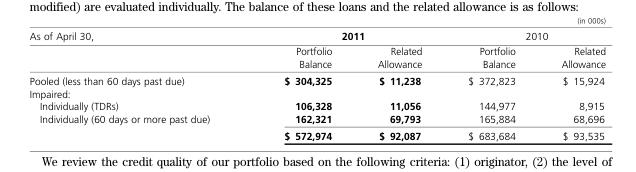table: (28, 29, 604, 140)
table column: (28, 29, 246, 140), (246, 29, 354, 140), (444, 29, 537, 140), (354, 29, 444, 140), (537, 29, 604, 140)
table column header: (28, 29, 604, 71)
table projected row header: (28, 86, 604, 99)
table row: (28, 43, 604, 71), (28, 71, 604, 86), (28, 29, 604, 43), (28, 112, 604, 126), (28, 126, 604, 140), (28, 86, 604, 99), (28, 99, 604, 112)
table spanning cell: (28, 29, 246, 71), (246, 29, 444, 43), (444, 29, 604, 43)
